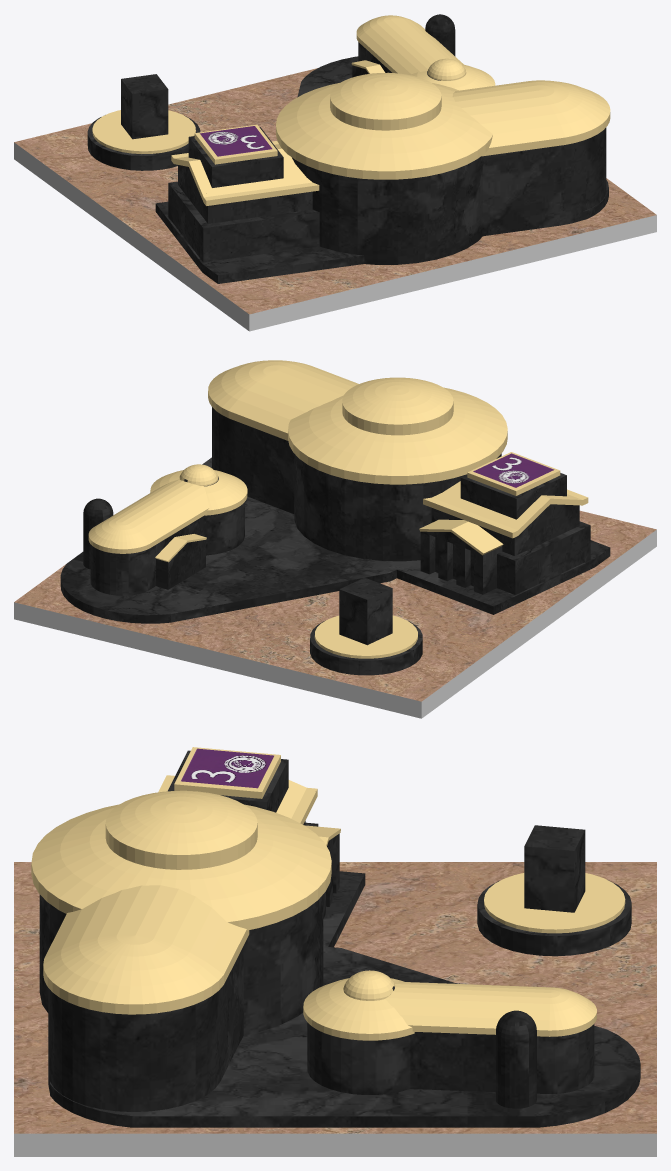
File: buildingFundicionCuadrada.glb
3 renders of one model, top to bottom at view 1: azimuth 30°, elevation 25°; view 2: azimuth 150°, elevation 25°; view 3: azimuth 270°, elevation 25°, orthographic. The views are drawn at different scales.
Visible parts, largest first — view 1: FundicionC; view 2: FundicionC; view 3: FundicionC.
Part boxes in pixels (box(x1,y1,x2,y2)): FundicionC: box(14, 14, 656, 331); FundicionC: box(14, 360, 656, 718); FundicionC: box(14, 747, 656, 1156).
Size of the model in its own units: 5 by 1.8 by 5.
5 materials, 3 textured.
